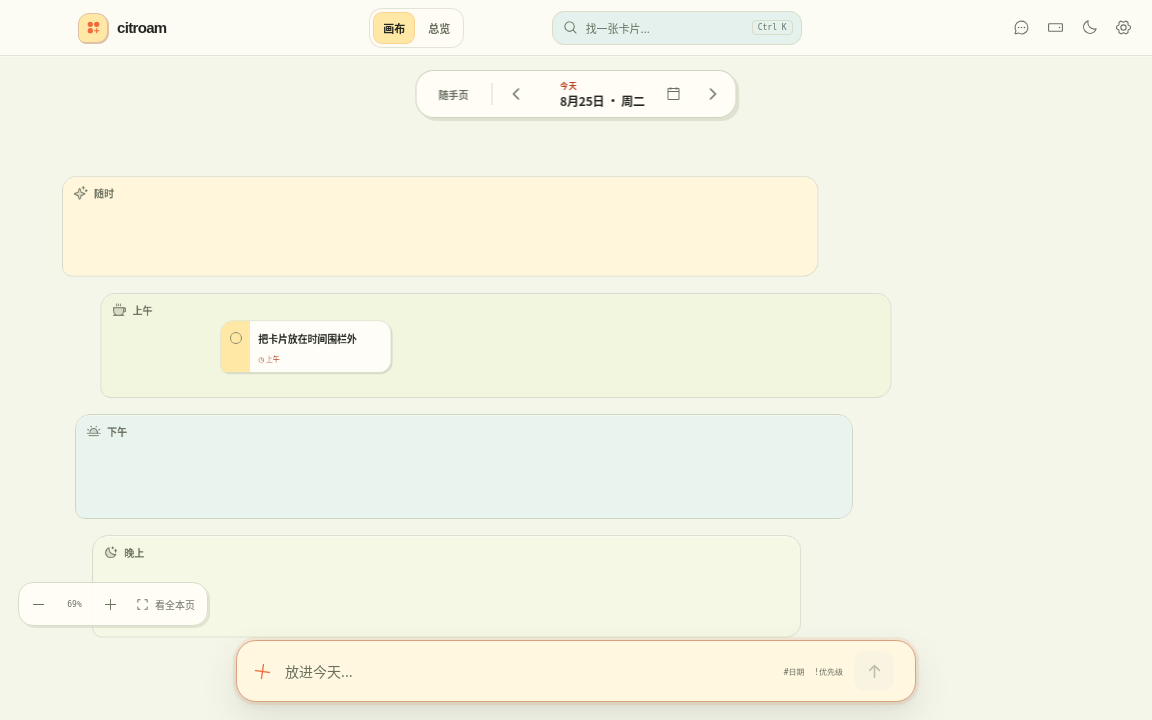
Scenario: date page canvas › uses a direct notes placeholder
Click the button named "打开卡片：把卡片放在时间围栏外". click: click(320, 347)
box: [250,321,390,372]
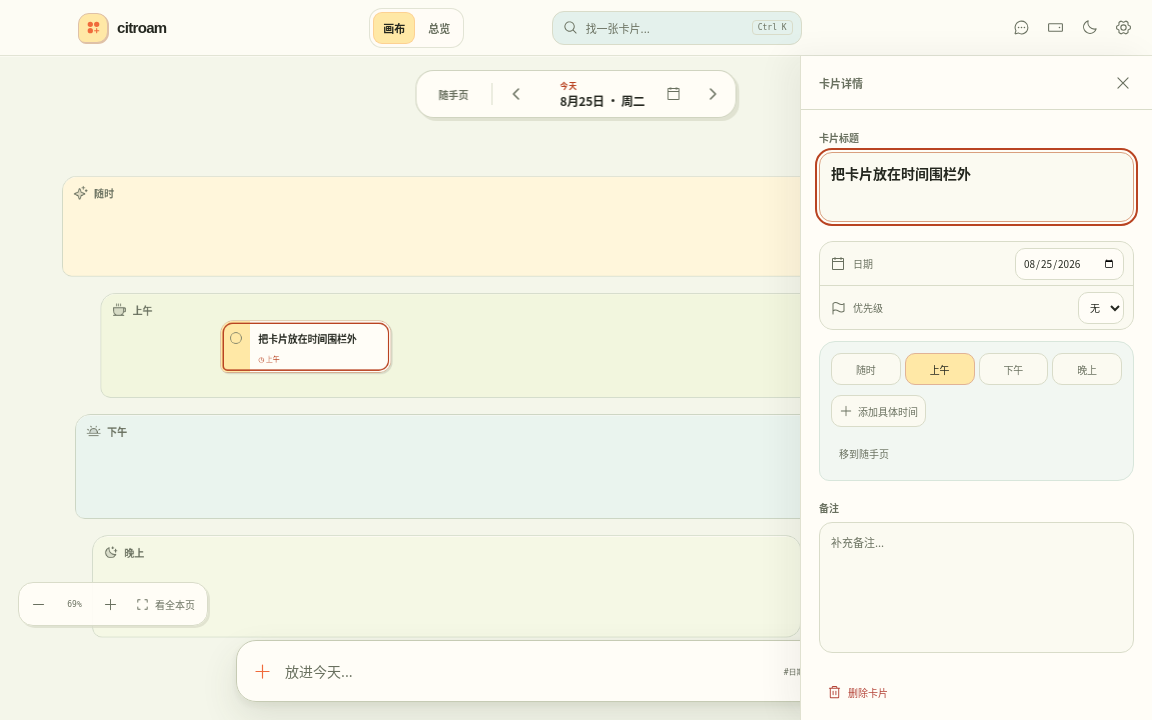
Check: the text box with placeholder "补充备注..." is shown, box [819,522,1134,653]
